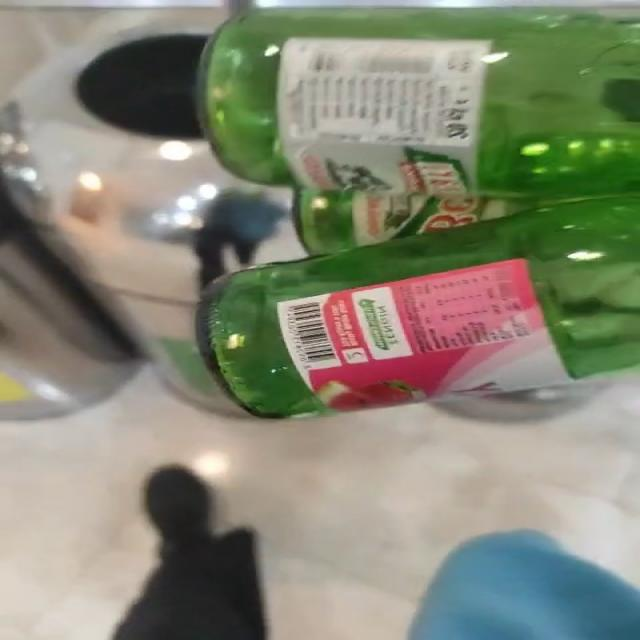glass: (197, 8, 639, 419)
